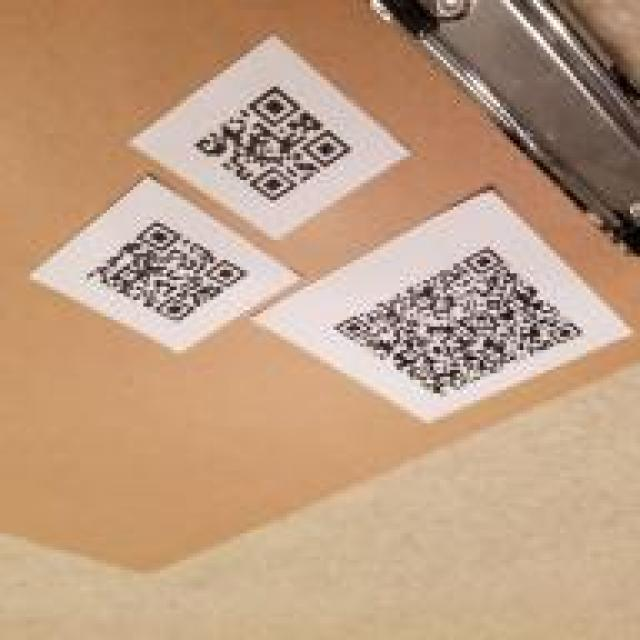QR_CODE: (327, 238, 590, 404), (183, 78, 362, 207), (80, 215, 255, 330)
